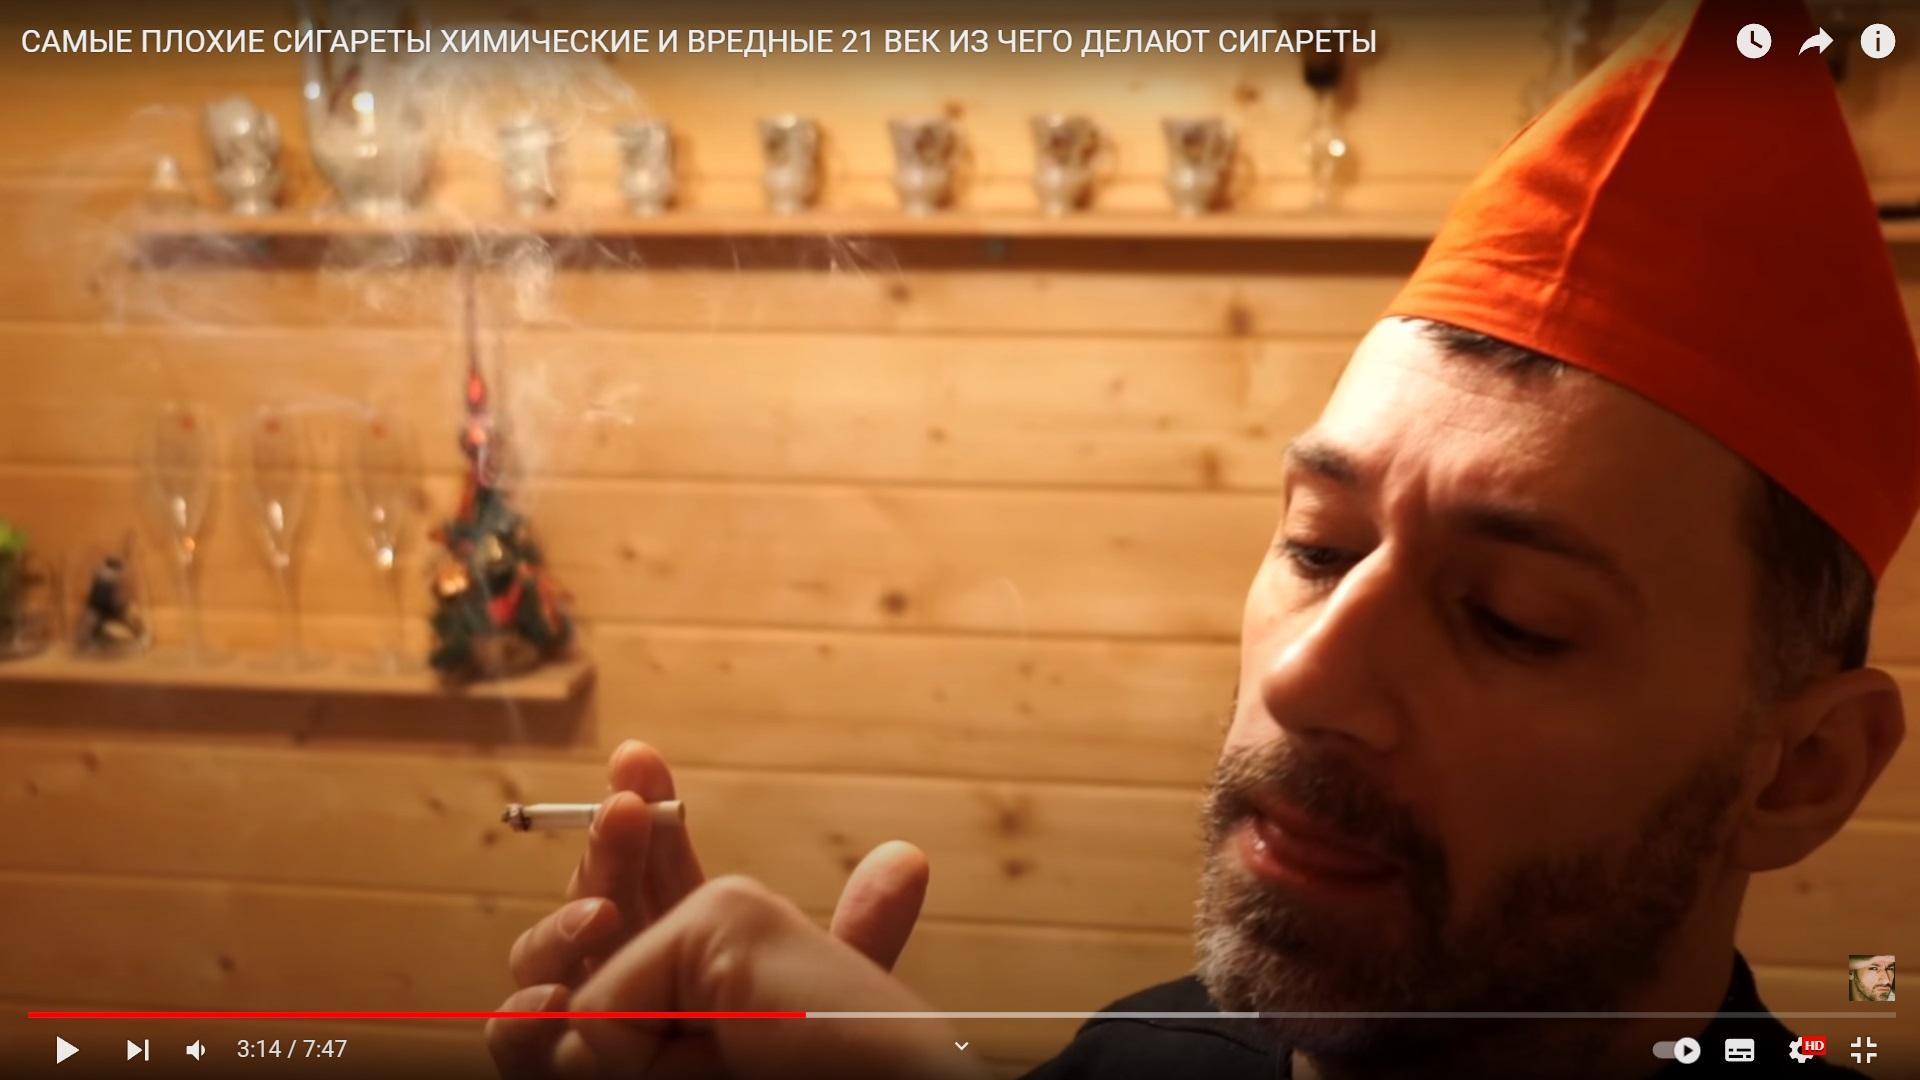cigarette: (500, 802, 687, 833)
